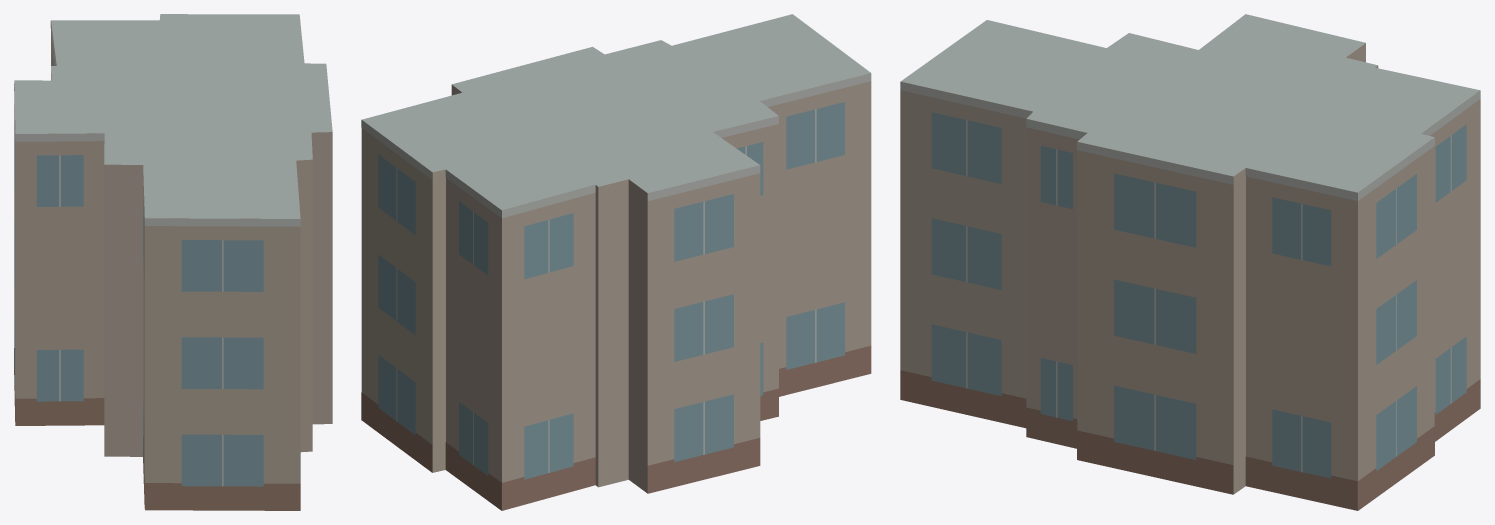
Rendered from survey-upis-32682092.glb.
The picture shows the model from 3 angles, left to right: view 1: azimuth 30°, elevation 25°; view 2: azimuth 150°, elevation 25°; view 3: azimuth 270°, elevation 25°; orthographic projection. The views are drawn at different scales.
Parts seen in each view (by area): view 1: survey-upis-32682092.tmp; view 2: survey-upis-32682092.tmp; view 3: survey-upis-32682092.tmp.
Part boxes in pixels (x1,y1,x2,y2): survey-upis-32682092.tmp: (14,14,332,510); survey-upis-32682092.tmp: (361,14,871,510); survey-upis-32682092.tmp: (900,14,1480,510).
Size of the model in its own units: 11.02 by 9.15 by 15.13.
